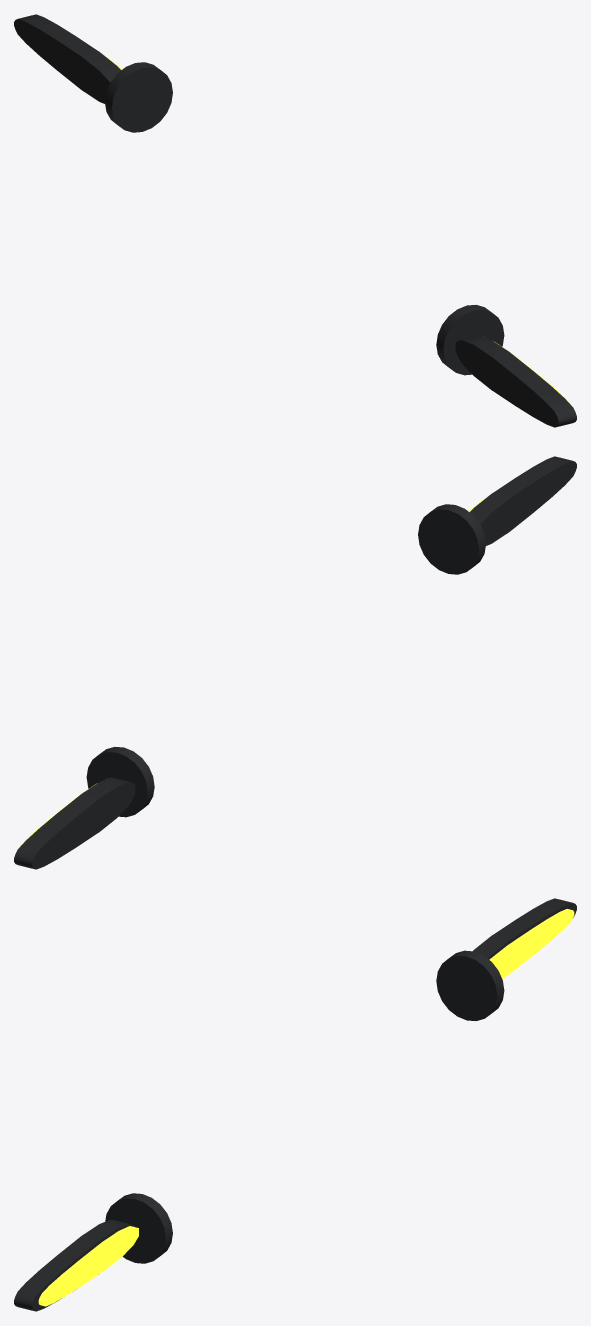
Rendered from flush.glb.
3 views of the same model, one above another, from view 1: azimuth 30°, elevation 25°; view 2: azimuth 150°, elevation 25°; view 3: azimuth 330°, elevation 25° (orthographic).
Parts seen in each view (by area): view 1: indicators_front_flush; view 2: indicators_front_flush; view 3: indicators_front_flush.
Part boxes in pixels (x1,y1,x2,y2): indicators_front_flush: (14,14,576,427); indicators_front_flush: (14,456,576,869); indicators_front_flush: (14,898,576,1311).
Bounding box in the file's own units: 0.02 × 0.02 × 0.309.
